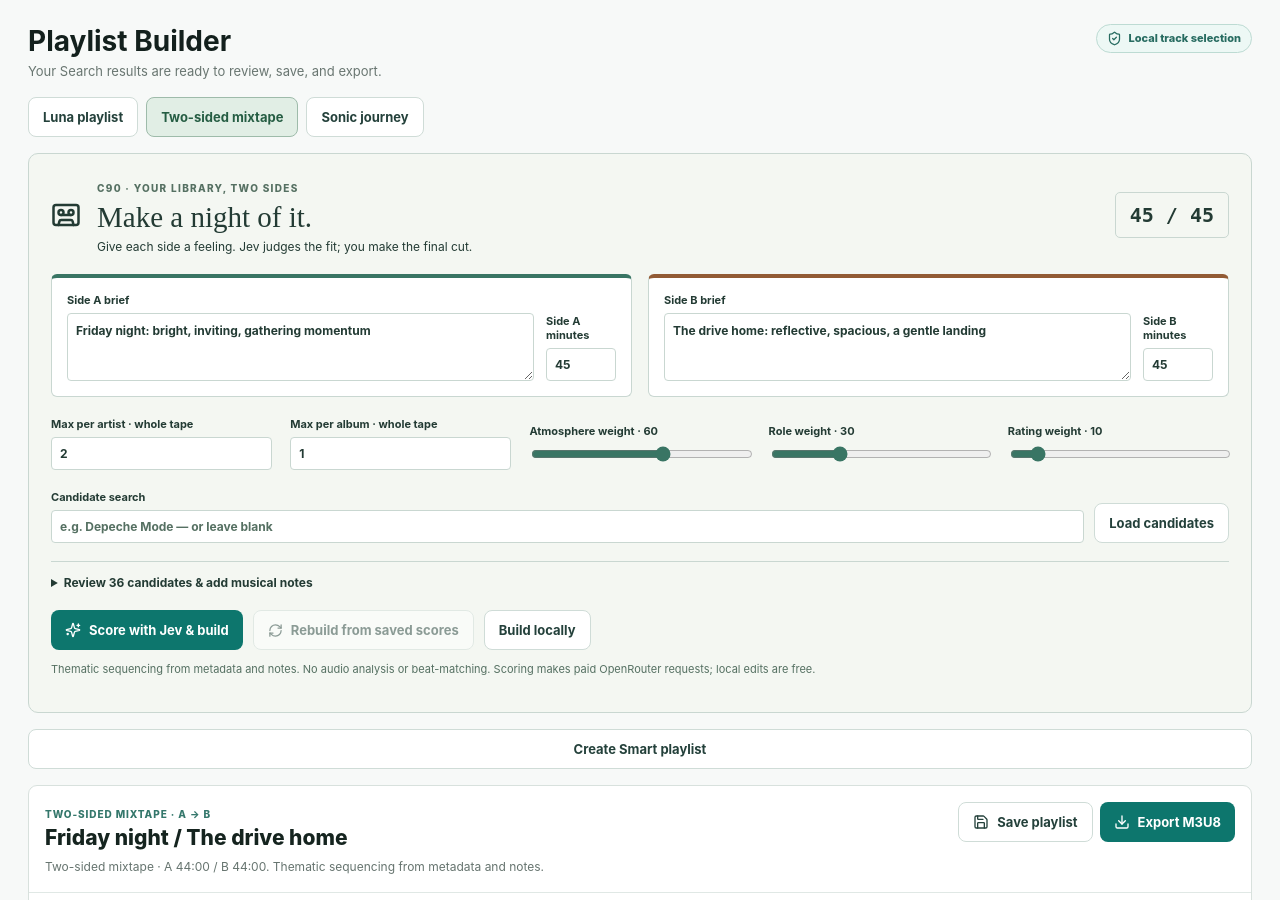
mixtape editing workflow › keeps the current draft on provider failure and offers an explicit local build
The image size is (1280, 900).
What coordinates should you click on to do the following:
click the button "Score with Jev & build"
I would click on:
 (147, 630)
Its box is left=51, top=610, right=243, bottom=650.
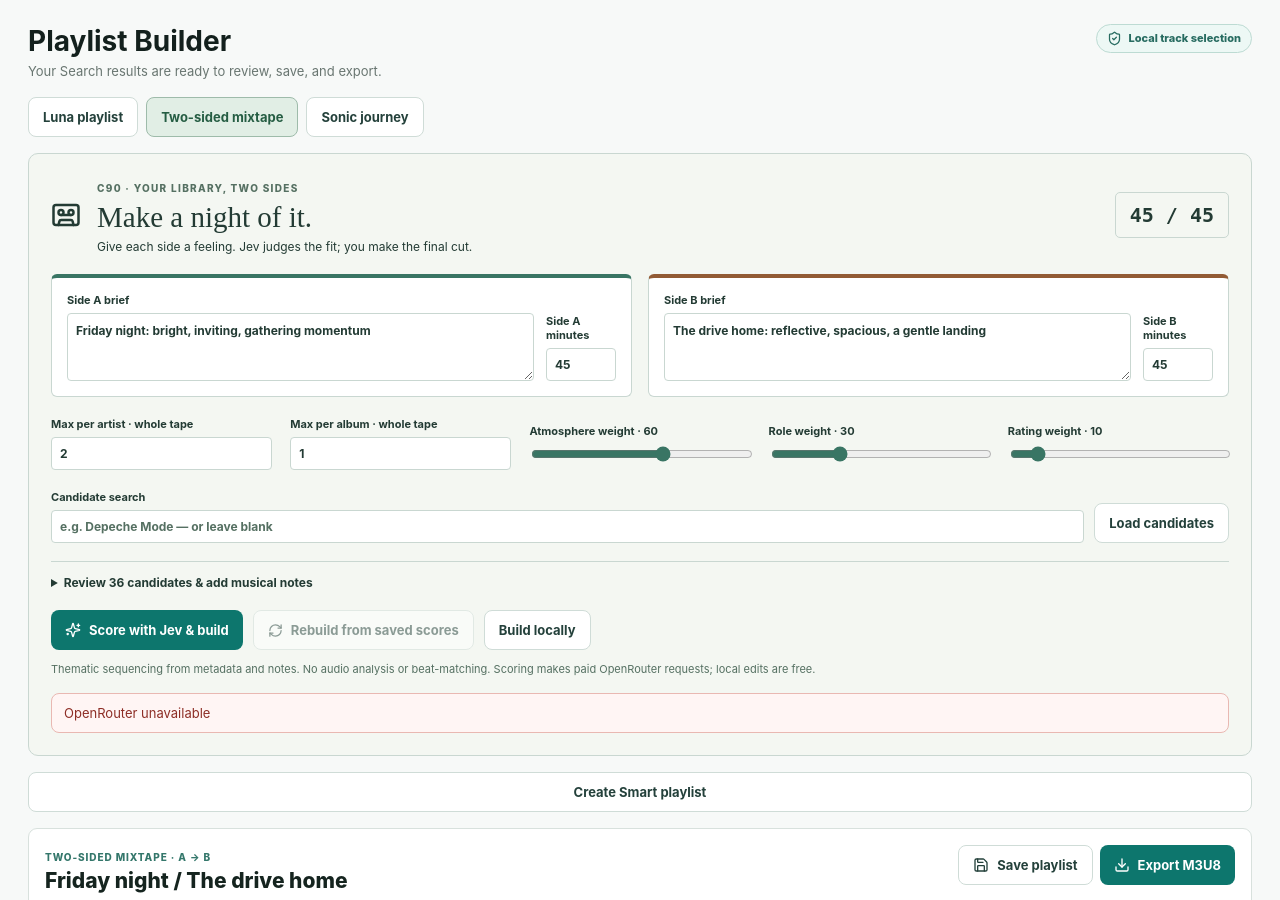
Check: the button "Build locally" is enabled, box left=484, top=610, right=590, bottom=650
Check: the message reads "OpenRouter unavailable", box left=64, top=705, right=210, bottom=721
